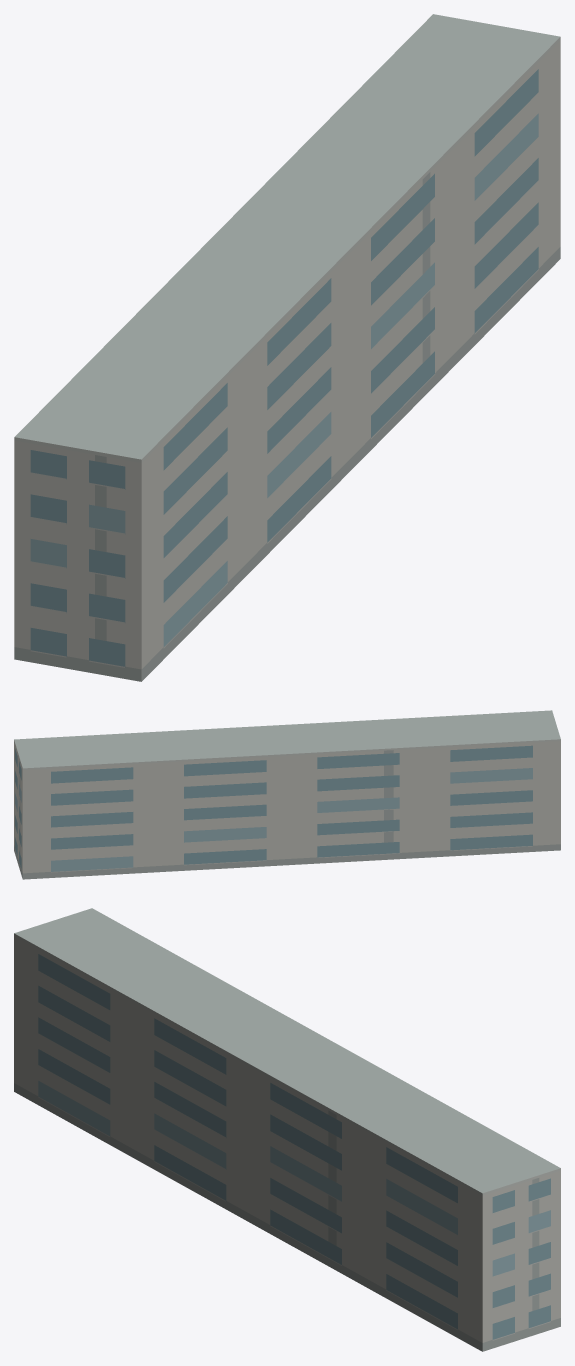
Rendered from residential-2b0c812c-1e19-4ae1-adee-2617a1ae16d7.glb.
The picture shows the model from 3 angles, top to bottom: view 1: azimuth 30°, elevation 25°; view 2: azimuth 150°, elevation 25°; view 3: azimuth 270°, elevation 25°; orthographic projection. The views are drawn at different scales.
Parts seen in each view (by area): view 1: residential-2b0c812c-1e19-4ae1-adee-2617a1ae16d7.tmp; view 2: residential-2b0c812c-1e19-4ae1-adee-2617a1ae16d7.tmp; view 3: residential-2b0c812c-1e19-4ae1-adee-2617a1ae16d7.tmp.
Part boxes in pixels (bbox=[...]): residential-2b0c812c-1e19-4ae1-adee-2617a1ae16d7.tmp: bbox=[14, 14, 560, 681]; residential-2b0c812c-1e19-4ae1-adee-2617a1ae16d7.tmp: bbox=[14, 710, 560, 879]; residential-2b0c812c-1e19-4ae1-adee-2617a1ae16d7.tmp: bbox=[14, 908, 560, 1351].
Size of the model in its own units: 58.88 by 15.25 by 47.71.
